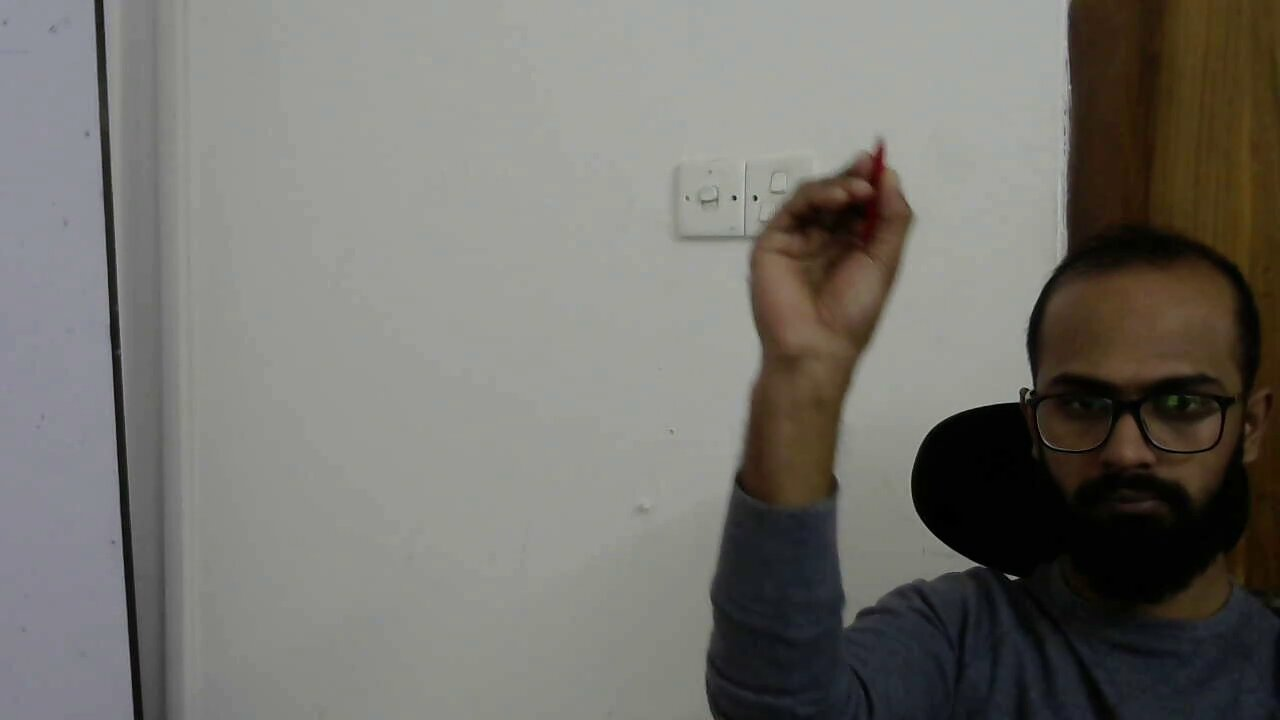pointer: (771, 144, 924, 259)
